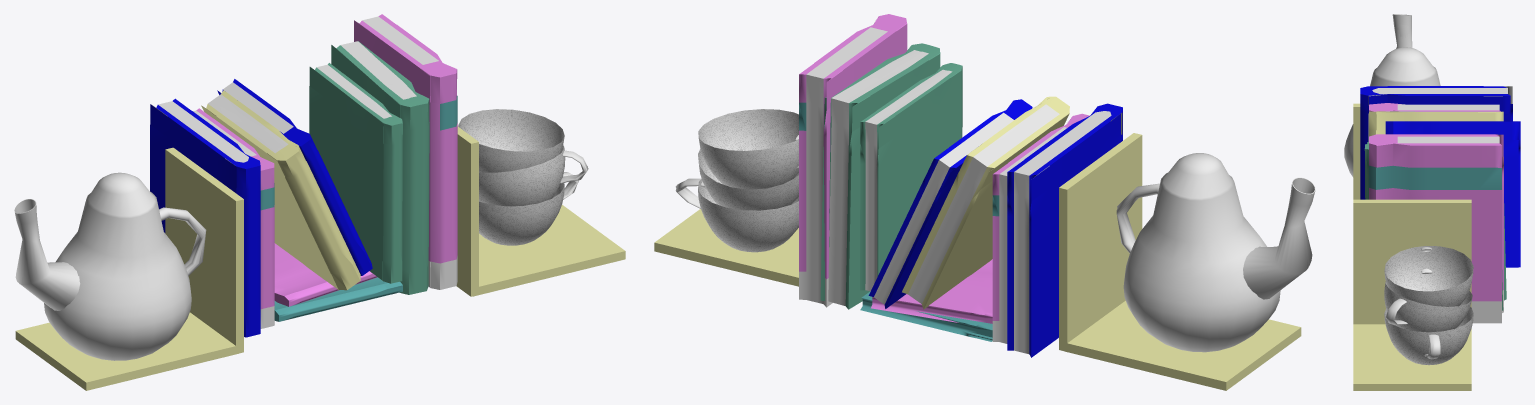
File: bookcase.fbx
3 views of the same model, side by side, from view 1: azimuth 30°, elevation 25°; view 2: azimuth 150°, elevation 25°; view 3: azimuth 270°, elevation 25° (orthographic). The views are drawn at different scales.
Visible parts, largest first — view 1: pSphere1, pCube11, pCube2, pCube15, pCube5, pCube3, pCube14, pCube1, pCube13, pSphere6, pCube10, pPipe1 (+10 smaller); view 2: pSphere1, pCube3, pCube11, pCube2, pCube15, pCube5, pCube14, pCube1, pSphere6, pCube10, pCube13, pPipe1 (+9 smaller); view 3: pCube15, pCube12, pCube13, pSphere6, pCube10, pCube3, pSphere1, pSphere2, pSphere4, pCube5, pSphere7, pCube4 (+7 smaller).
Boxes of the visible parts, x1,y1,x2,y2 form: pSphere1: [44, 172, 191, 360]; pCube11: [309, 63, 402, 283]; pCube2: [165, 147, 243, 353]; pCube15: [354, 14, 457, 289]; pCube5: [201, 90, 360, 290]; pCube3: [150, 98, 260, 337]; pCube14: [331, 41, 429, 294]; pCube1: [15, 312, 238, 390]; pCube13: [473, 205, 625, 296]; pSphere6: [458, 109, 564, 172]; pCube10: [217, 79, 372, 275]; pPipe1: [14, 199, 80, 310]; pSphere1: [1123, 153, 1280, 352]; pCube3: [1007, 103, 1122, 357]; pCube11: [860, 63, 962, 291]; pCube2: [1059, 133, 1142, 351]; pCube15: [799, 14, 907, 307]; pCube5: [902, 96, 1069, 309]; pCube14: [820, 43, 940, 309]; pCube1: [1064, 301, 1301, 390]; pSphere6: [698, 109, 798, 189]; pCube10: [868, 99, 1032, 308]; pCube13: [654, 209, 798, 286]; pPipe1: [1243, 177, 1315, 299]; pCube15: [1369, 134, 1503, 323]; pCube12: [1353, 199, 1471, 324]; pCube13: [1353, 324, 1471, 390]; pSphere6: [1384, 246, 1473, 306]; pCube10: [1385, 121, 1520, 267]; pCube3: [1360, 86, 1512, 199]; pSphere1: [1344, 47, 1440, 177]; pSphere2: [1384, 307, 1473, 365]; pSphere4: [1384, 281, 1472, 332]; pCube5: [1369, 111, 1503, 136]; pSphere7: [1384, 246, 1473, 306]; pCube4: [1369, 103, 1500, 111].
Size of the model in its own units: 17.95 by 6.45 by 5.63.
